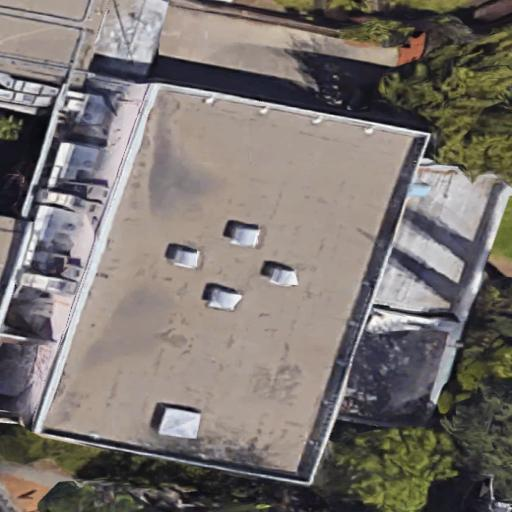Flat Roof: (36, 78, 433, 491)
